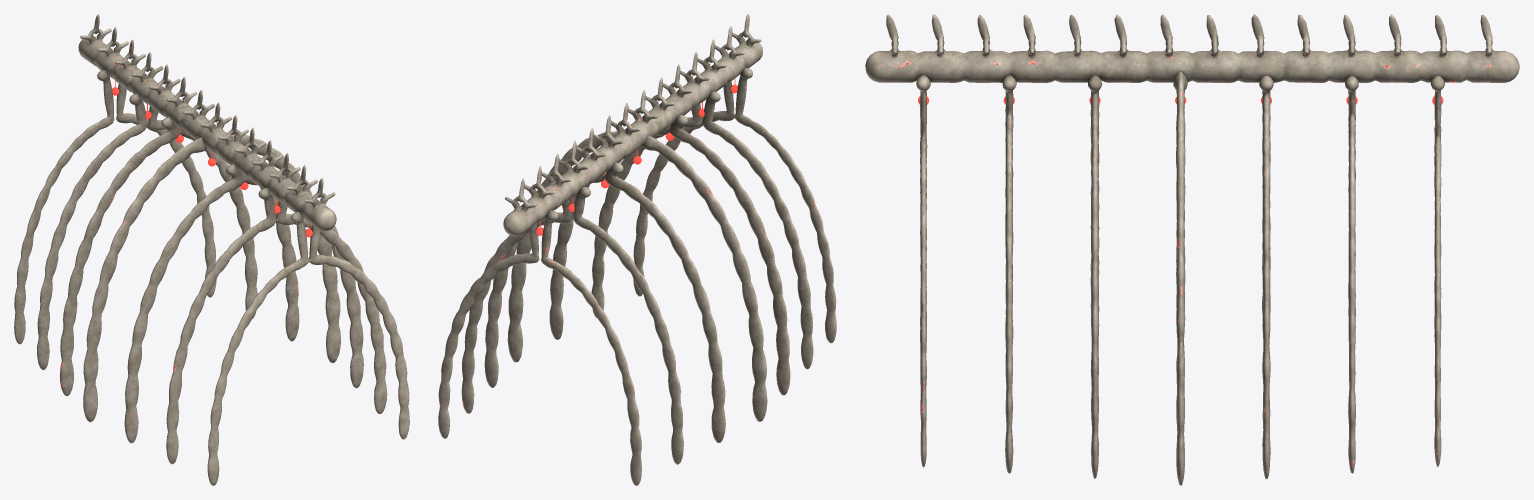
File: ribcage_arch.glb
3 views of the same model, side by side, from view 1: azimuth 30°, elevation 25°; view 2: azimuth 150°, elevation 25°; view 3: azimuth 270°, elevation 25° (orthographic). The views are drawn at different scales.
Parts seen in each view (by area): view 1: Spine, Rib_3, Rib_1, Rib_0, Rib_2, Rib_4, Rib_5, Rib_6, LED_Drops; view 2: Spine, Rib_3, Rib_6, Rib_5, Rib_4, Rib_1, Rib_2, Rib_0, LED_Drops; view 3: Spine, Rib_3, Rib_4, Rib_2, Rib_1, Rib_5, Rib_6, Rib_0.
Part boxes in pixels (box(x1,y1,x2,y2)): Spine: box(78, 14, 336, 231); Rib_3: box(83, 132, 340, 422); Rib_1: box(166, 188, 387, 464); Rib_0: box(207, 211, 409, 485); Rib_2: box(124, 164, 363, 443); Rib_4: box(60, 117, 299, 395); Rib_5: box(37, 93, 257, 370); Rib_6: box(14, 70, 216, 344); LED_Drops: box(112, 80, 312, 237); Spine: box(503, 14, 762, 236); Rib_3: box(507, 131, 767, 421); Rib_6: box(438, 210, 641, 485); Rib_5: box(461, 186, 683, 464); Rib_4: box(484, 162, 725, 442); Rib_1: box(591, 91, 813, 369); Rib_2: box(549, 114, 790, 395); Rib_0: box(633, 67, 836, 343); LED_Drops: box(536, 78, 737, 235); Spine: box(865, 14, 1519, 82); Rib_3: box(1173, 71, 1187, 485); Rib_4: box(1259, 75, 1273, 479); Rib_2: box(1088, 75, 1102, 478); Rib_1: box(1002, 75, 1016, 473); Rib_5: box(1345, 75, 1358, 473); Rib_6: box(1430, 75, 1444, 467); Rib_0: box(916, 75, 930, 467).
Size of the model in its own units: 2.77 by 3.04 by 4.58.
Materials: 1 (1 with a texture image).
